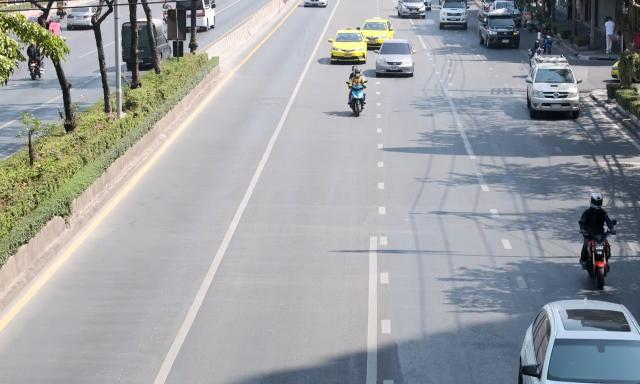carro: (516, 297, 640, 384), (475, 10, 521, 51), (376, 37, 416, 76), (329, 27, 367, 62), (176, 0, 217, 30), (360, 16, 395, 47), (23, 13, 64, 38), (489, 0, 523, 27), (439, 0, 468, 31), (65, 5, 100, 29), (396, 0, 426, 17), (482, 0, 496, 16)
moto: (579, 234, 613, 294), (348, 80, 368, 116), (27, 55, 43, 80), (163, 8, 175, 26), (56, 2, 68, 19), (526, 15, 538, 32)
van: (121, 17, 172, 70)
